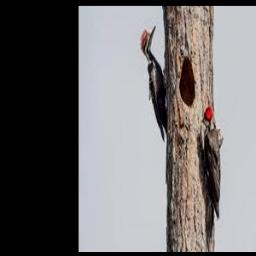Woodpecker: (140, 23, 167, 141), (201, 106, 221, 251)
